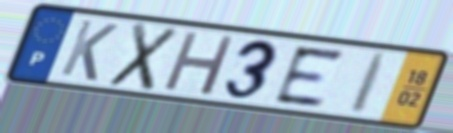3: (220, 37, 288, 104)
E: (271, 44, 348, 108)
H: (160, 28, 240, 98)
I: (346, 50, 393, 117)
K: (56, 17, 122, 84)
X: (104, 19, 183, 94)
